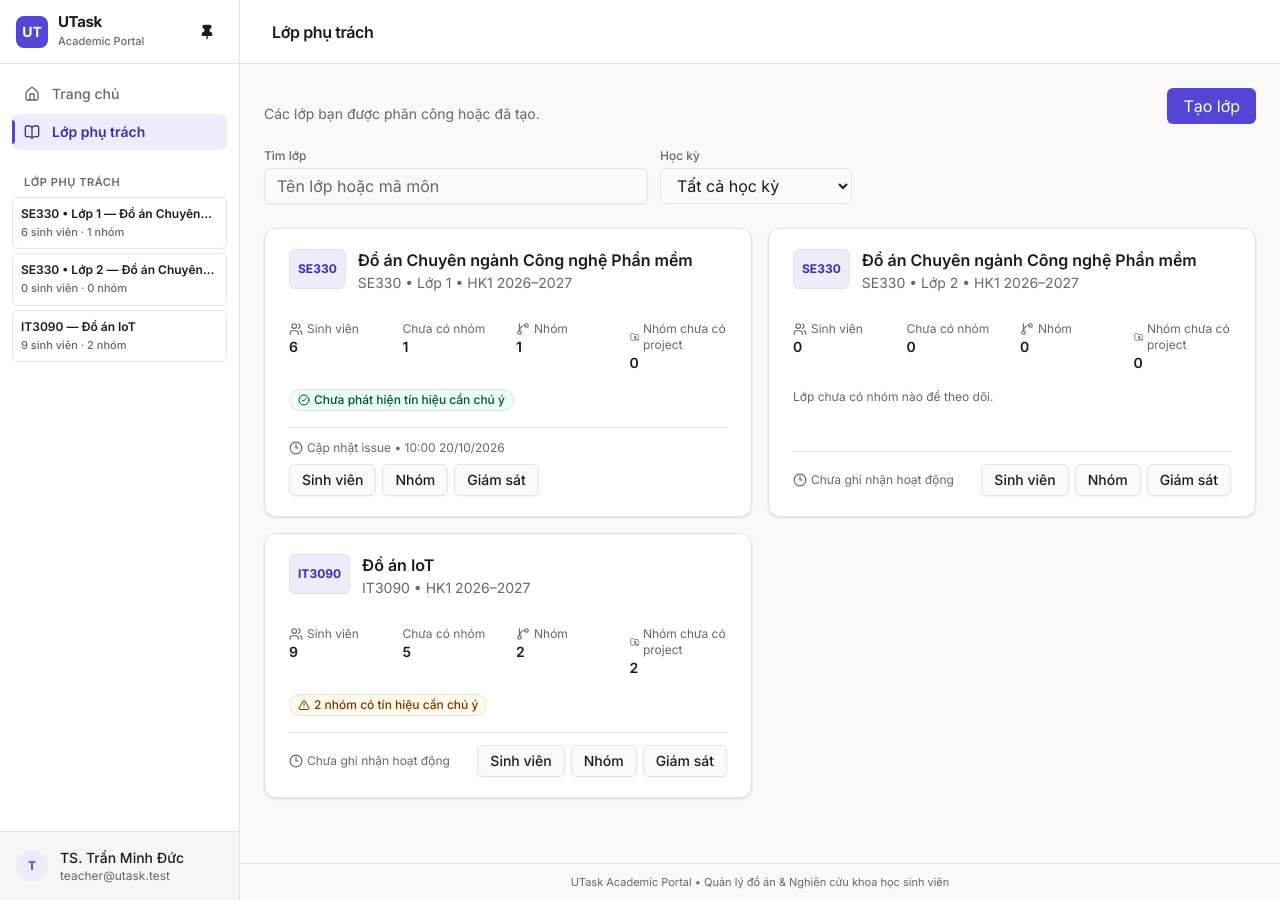
Test case: Create class dialog (T03, demo mode) › reports a valid form as valid but still not creatable, and sends nothing
Click the button "Tạo lớp".
click(1212, 106)  # box [1167, 88, 1256, 124]
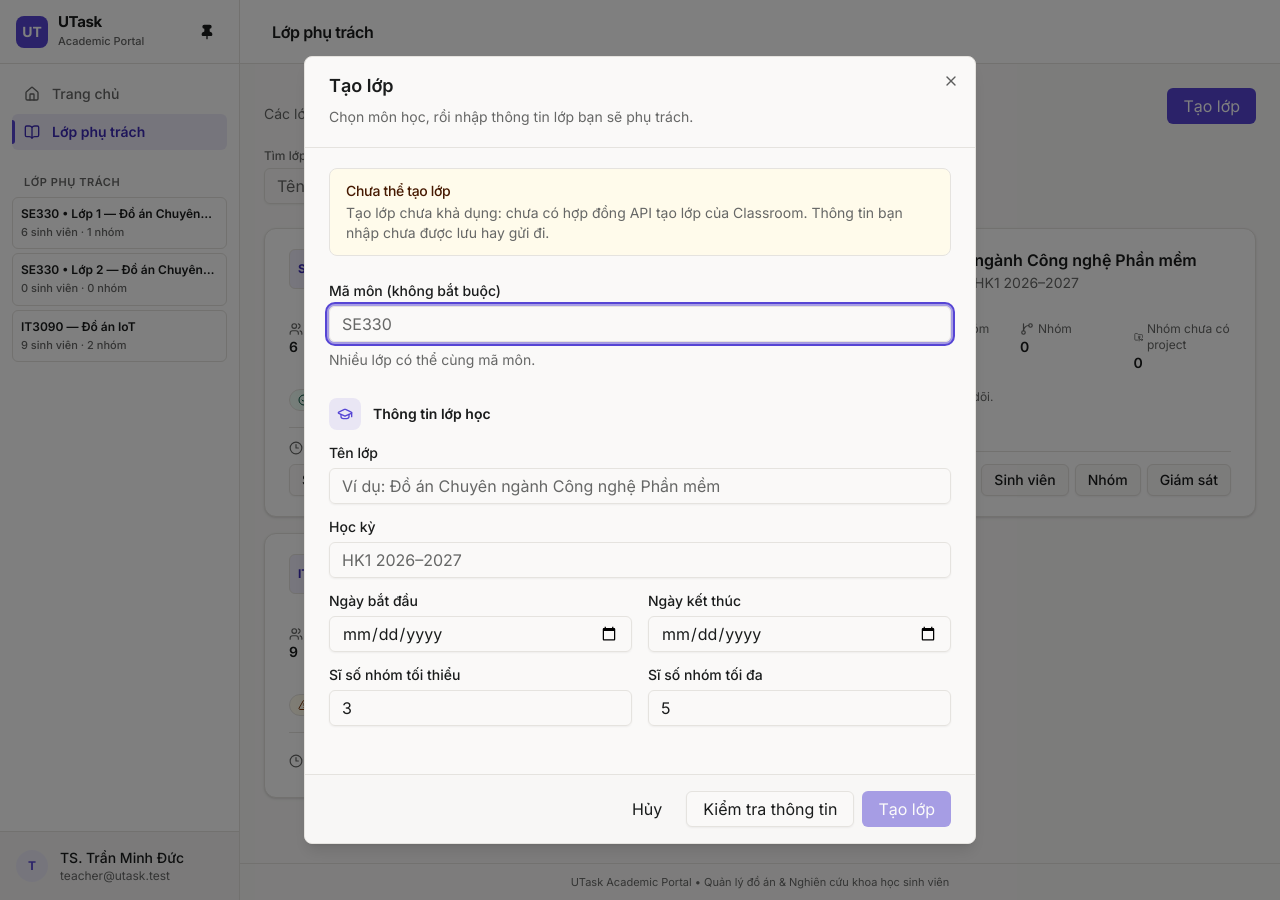
Type "Đồ án mới" into the field labelled "Tên lớp".
click(640, 486); type("Đồ án mới")  # box [329, 468, 951, 504]
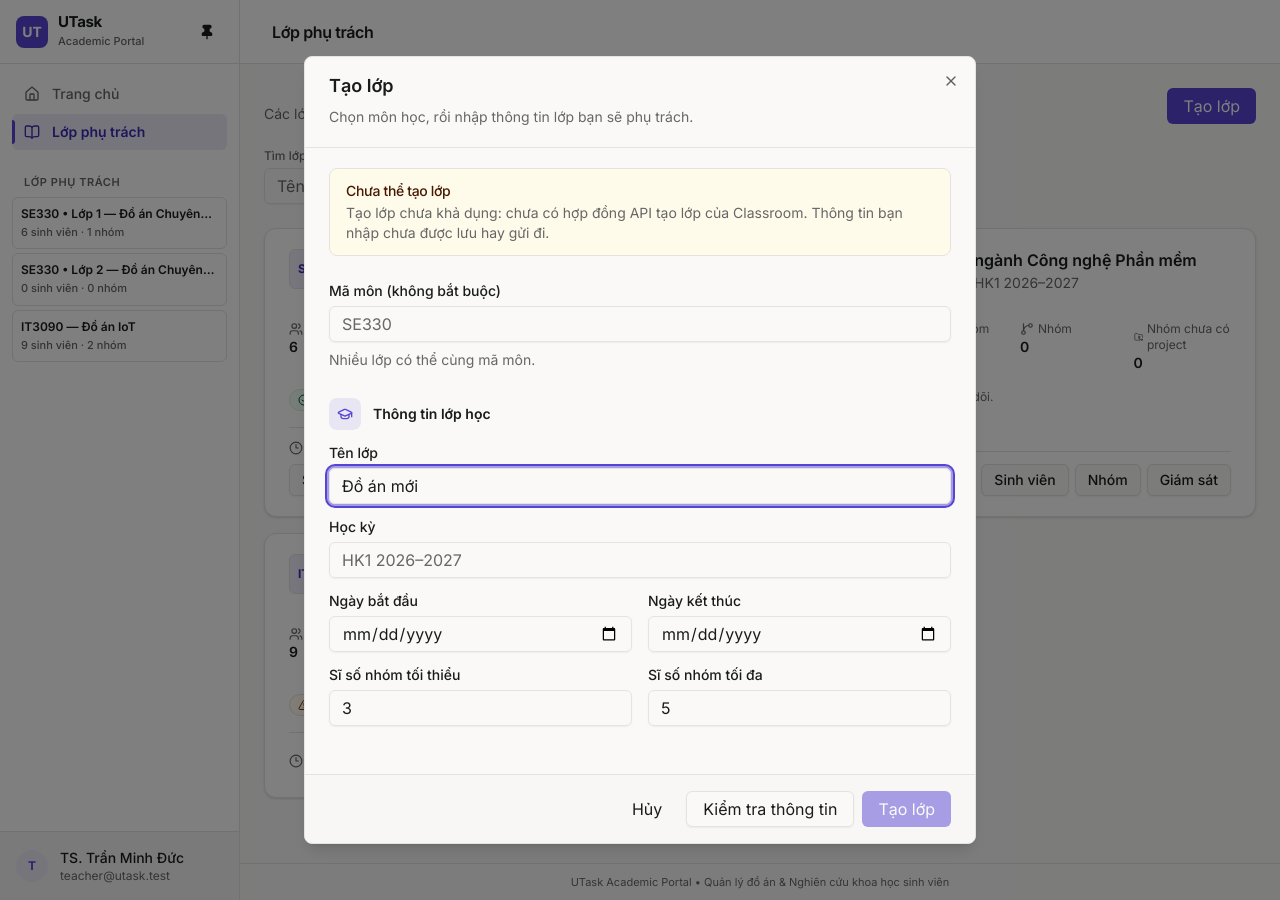
Type "HK2 2026-2027" into the field labelled "Học kỳ".
click(640, 560); type("HK2 2026-2027")  # box [329, 542, 951, 578]
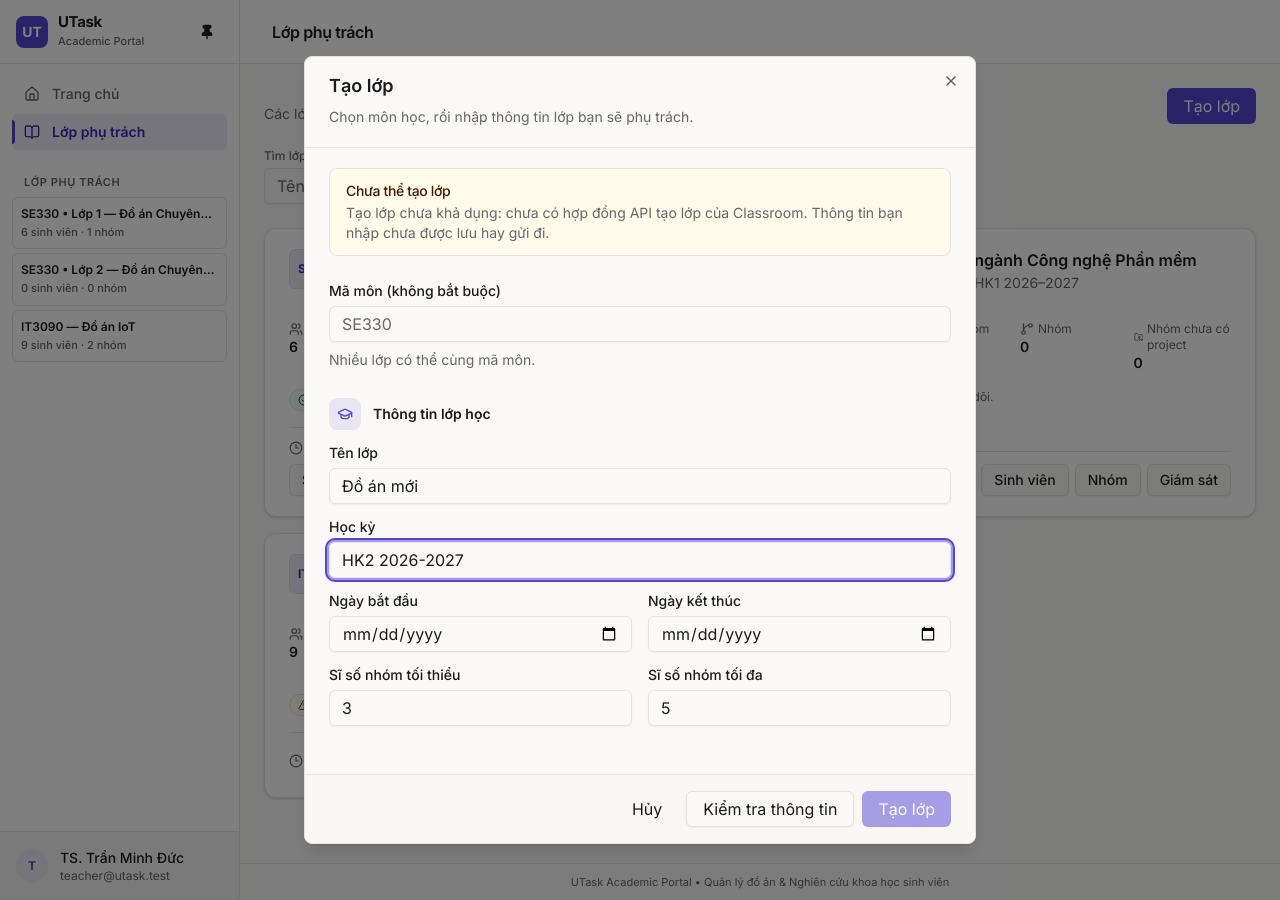
Type "2027-02-01" into the date field labelled "Ngày bắt đầu".
click(480, 634); type("2027-02-01")  # box [329, 616, 632, 652]
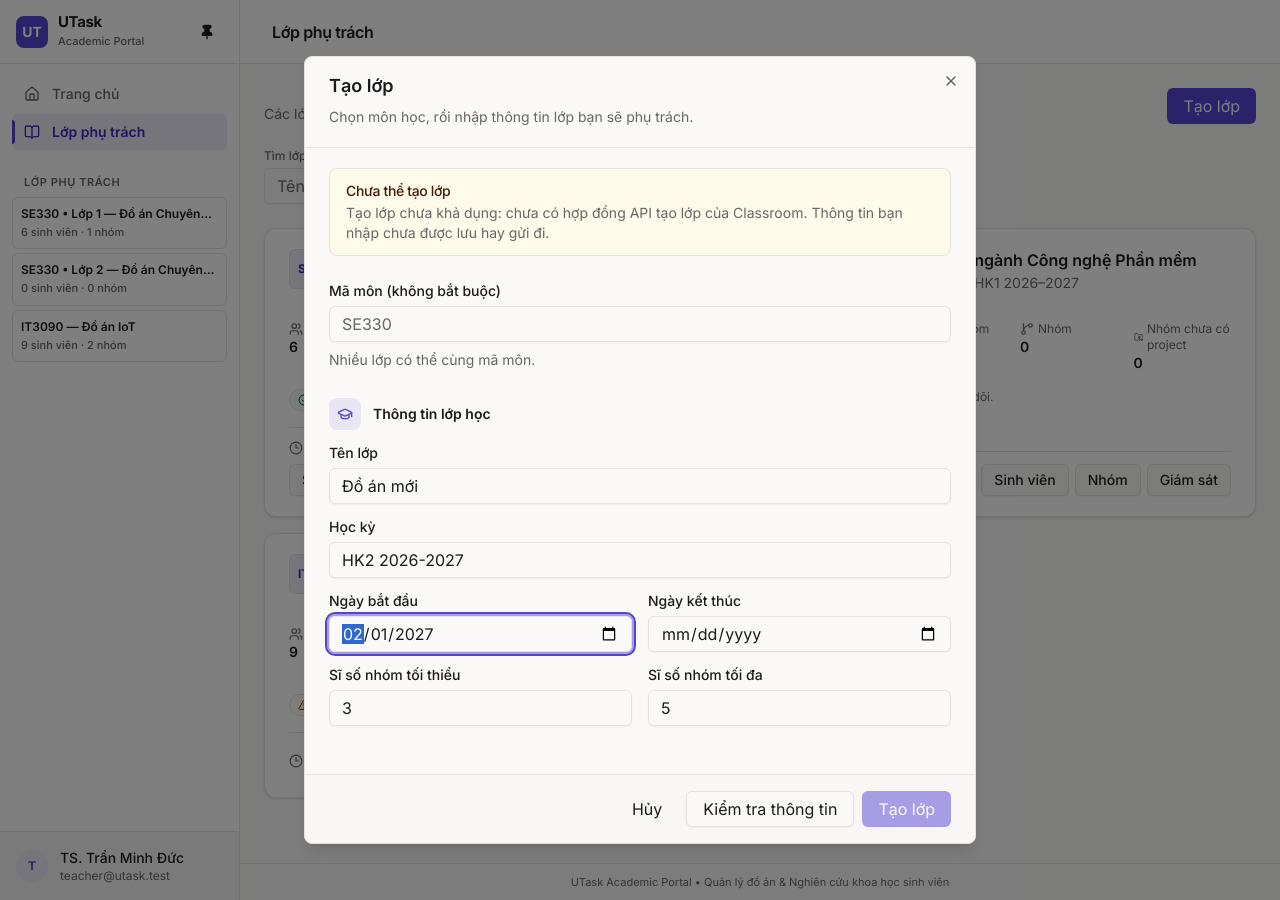
Type "2027-06-01" into the date field labelled "Ngày kết thúc".
click(800, 634); type("2027-06-01")  # box [648, 616, 951, 652]
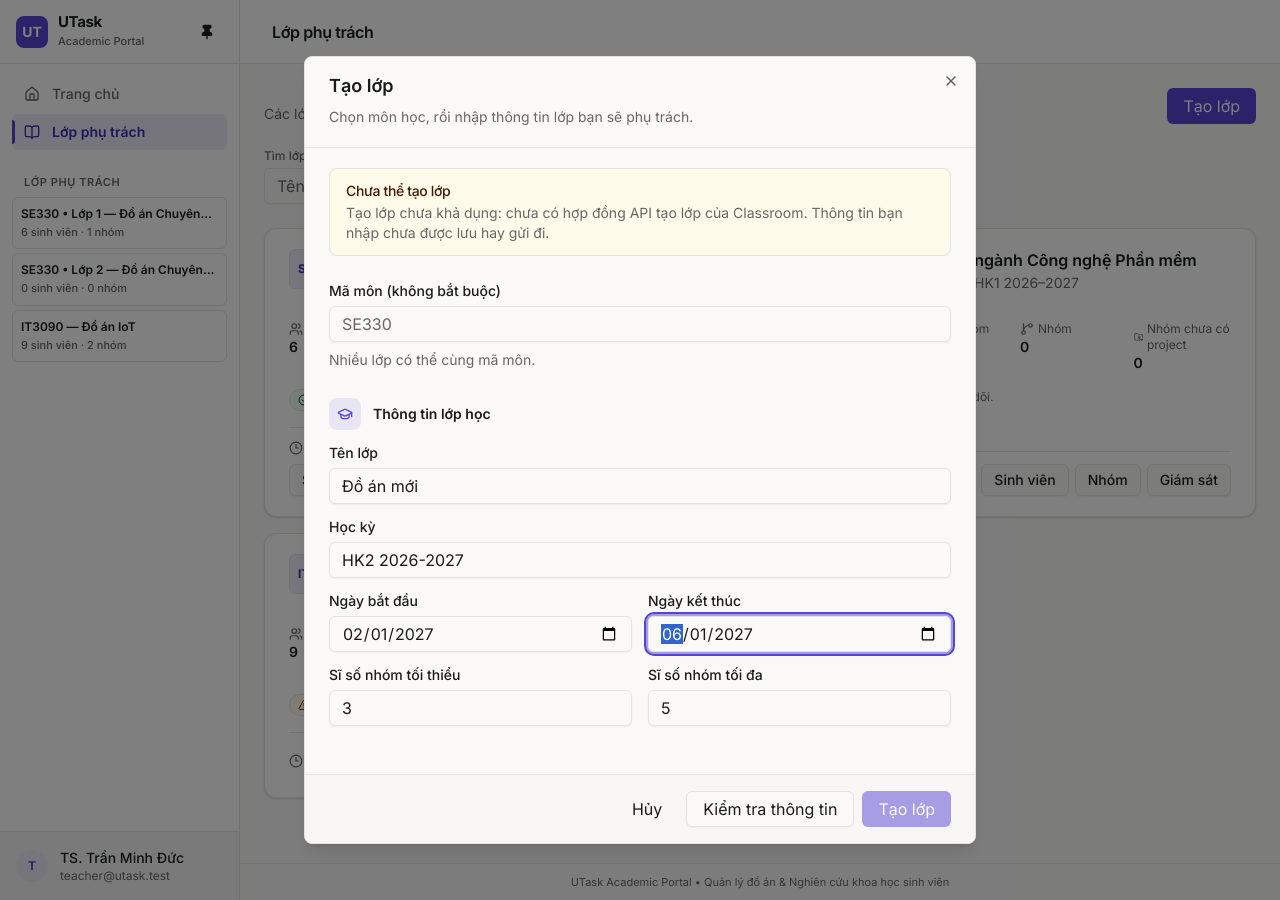
Click the button "Kiểm tra thông tin".
click(770, 809)  # box [686, 791, 854, 827]
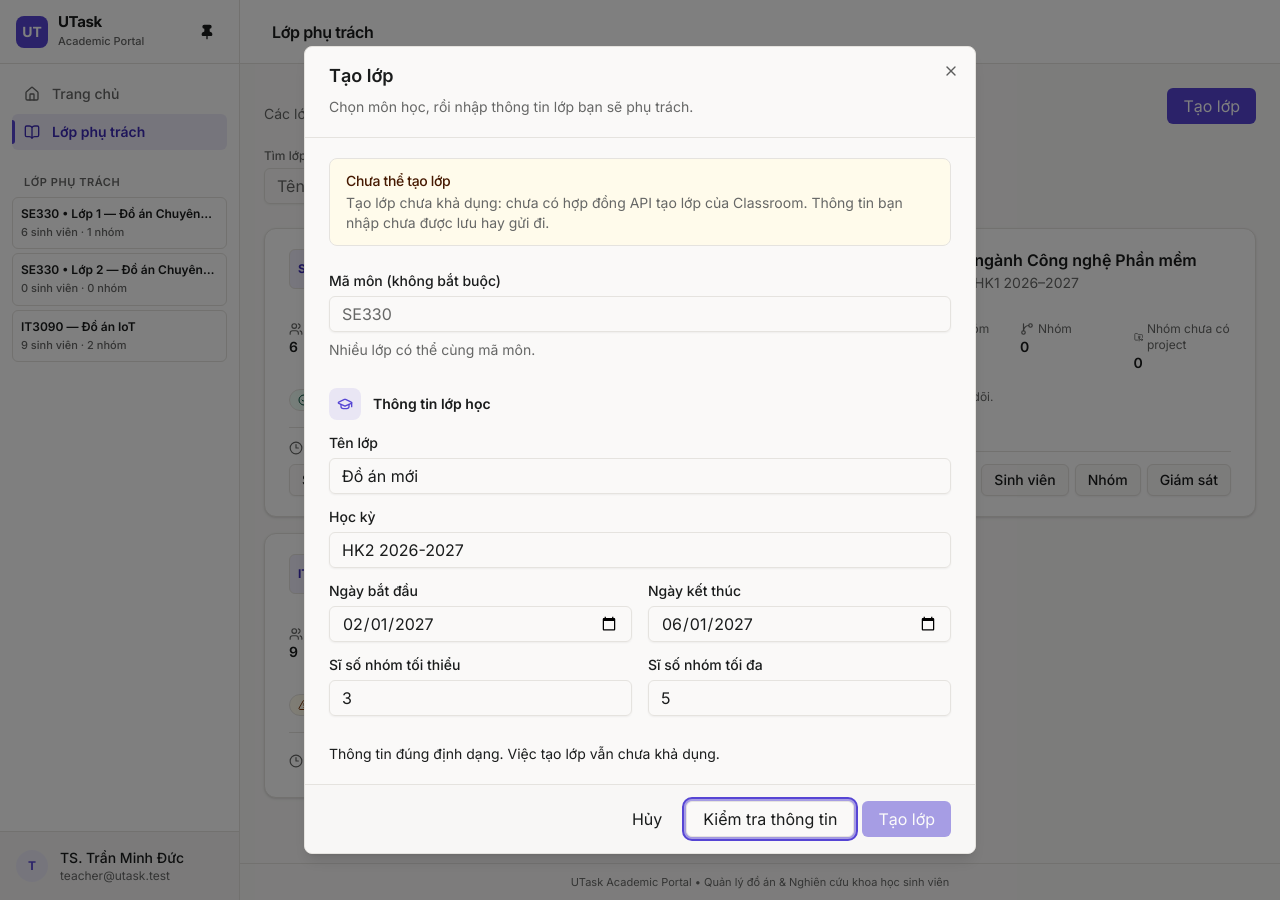
Result: the text "Thông tin đúng định dạng. Việc tạo lớp vẫn chưa khả dụng." is shown at [329, 745, 720, 762]
